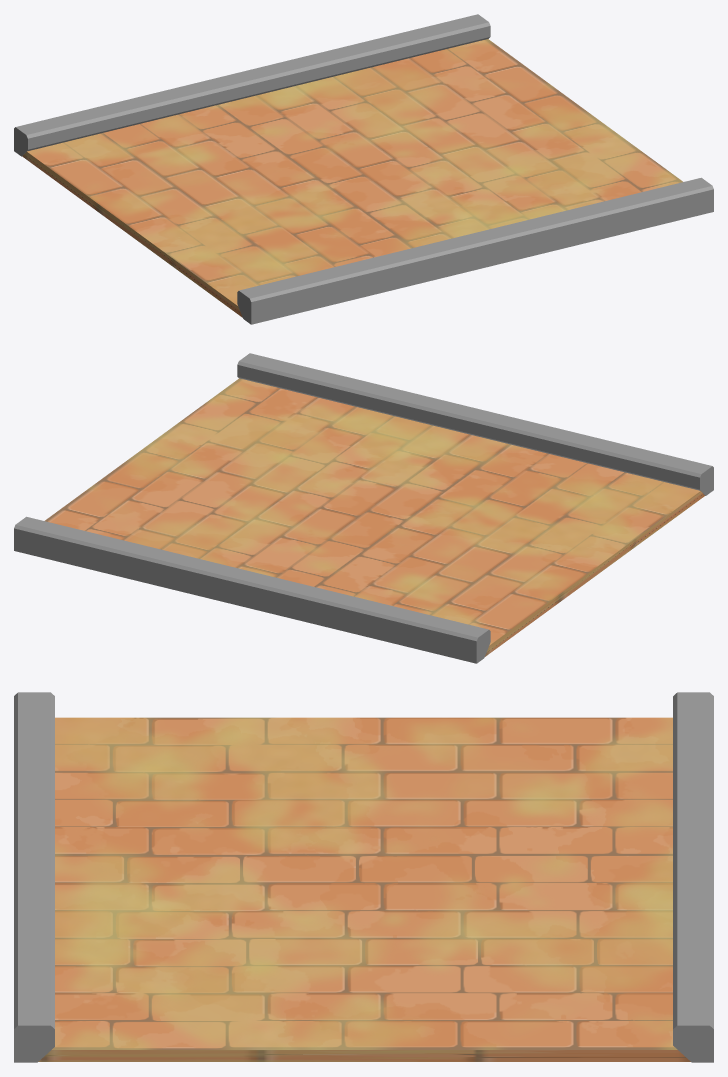
Rendered from RawStraight.fbx.
3 renders of one model, top to bottom at view 1: azimuth 30°, elevation 25°; view 2: azimuth 150°, elevation 25°; view 3: azimuth 270°, elevation 25°, orthographic. The views are drawn at different scales.
Visible parts, largest first — view 1: Cube, Cube.001, Cube.002; view 2: Cube, Cube.002, Cube.001; view 3: Cube, Cube.001, Cube.002.
Part boxes in pixels (<box>): Cube: <box>22,39,682,317</box>; Cube.001: <box>237,177,713,324</box>; Cube.002: <box>14,14,490,156</box>; Cube: <box>45,378,704,656</box>; Cube.002: <box>14,516,490,663</box>; Cube.001: <box>237,353,713,495</box>; Cube: <box>38,717,690,1061</box>; Cube.001: <box>14,692,54,1062</box>; Cube.002: <box>673,692,713,1062</box>.
Size of the model in its own units: 240 by 12.45 by 213.
